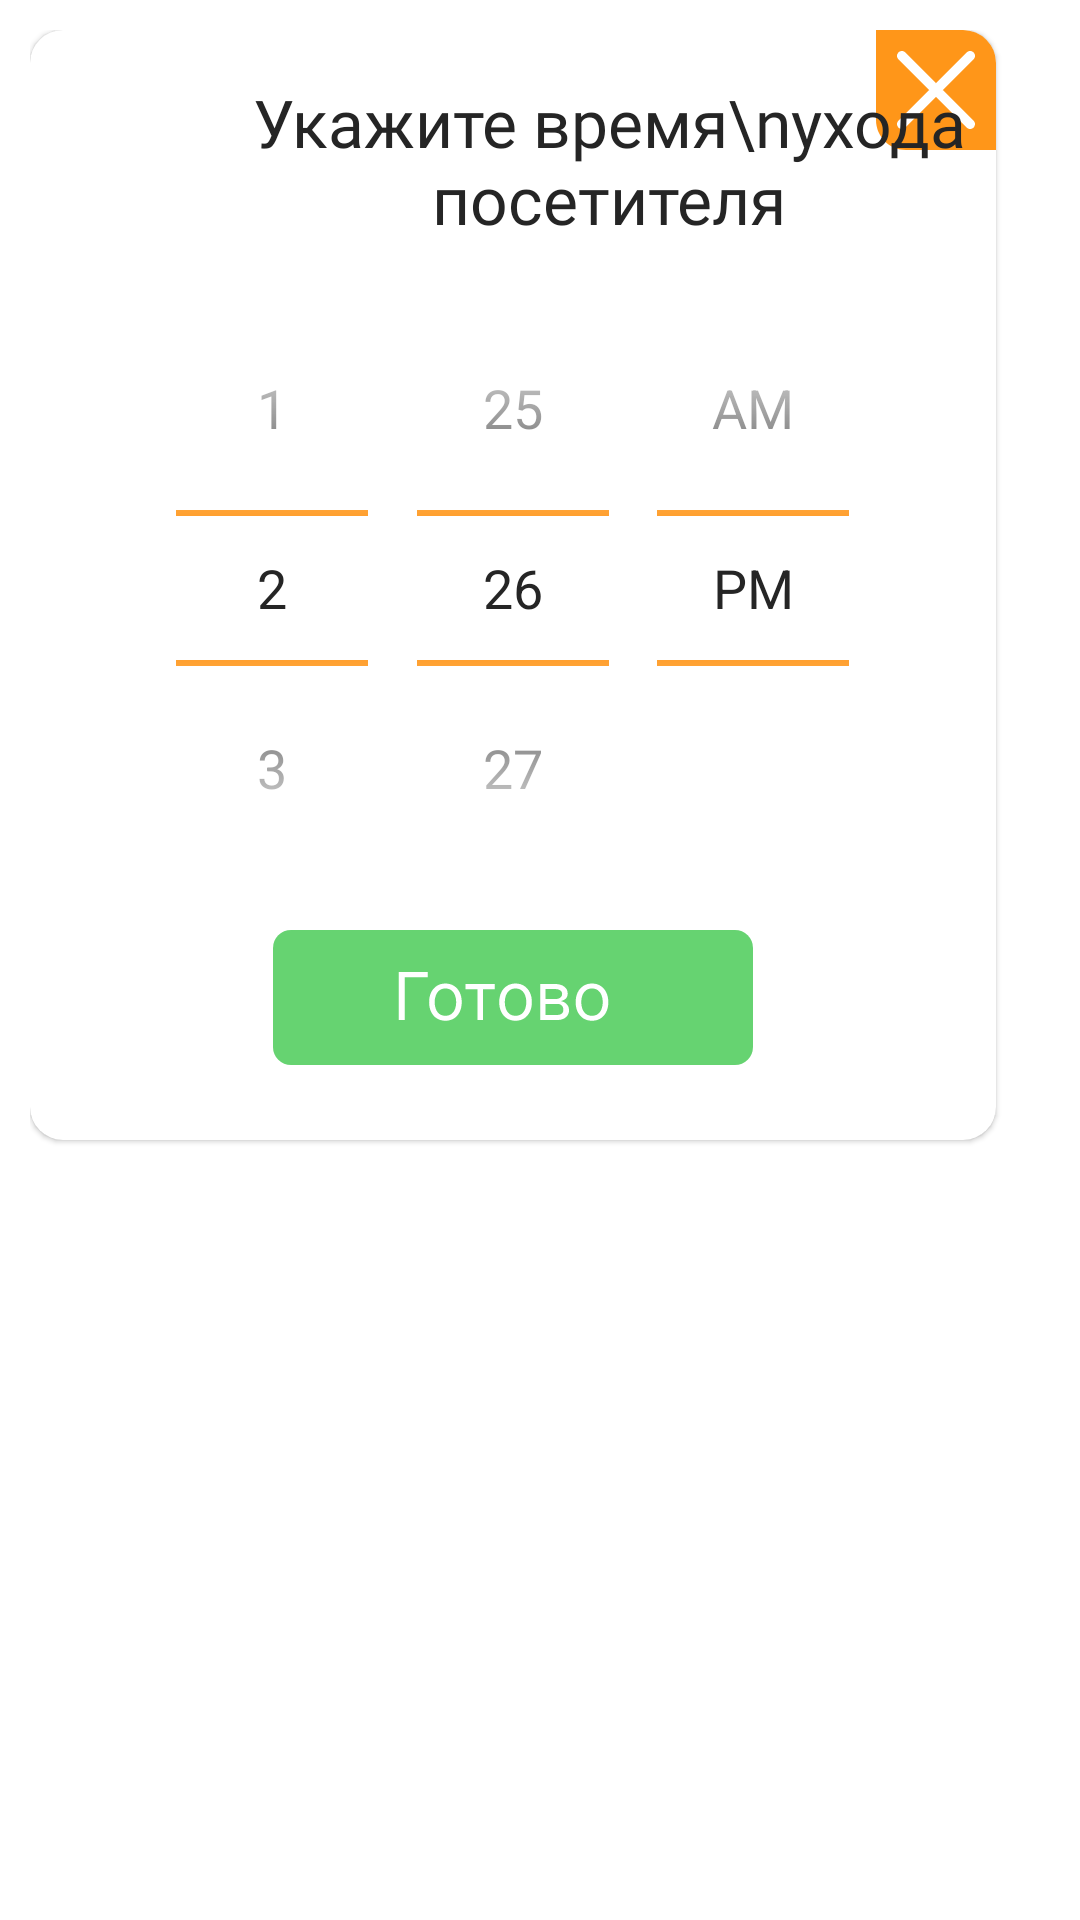

Named icons in this screenshot (1080w x 1920h) and their centers, (x=x, y=y):
close fragment: (x=936, y=90)
